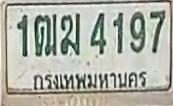1: (16, 14, 28, 57), (112, 12, 123, 54)
4: (90, 11, 107, 54)
7: (149, 10, 165, 53)
9: (129, 11, 145, 52)
A06: (60, 12, 80, 56)
A18: (33, 13, 57, 56)
BKK: (31, 65, 150, 93)
